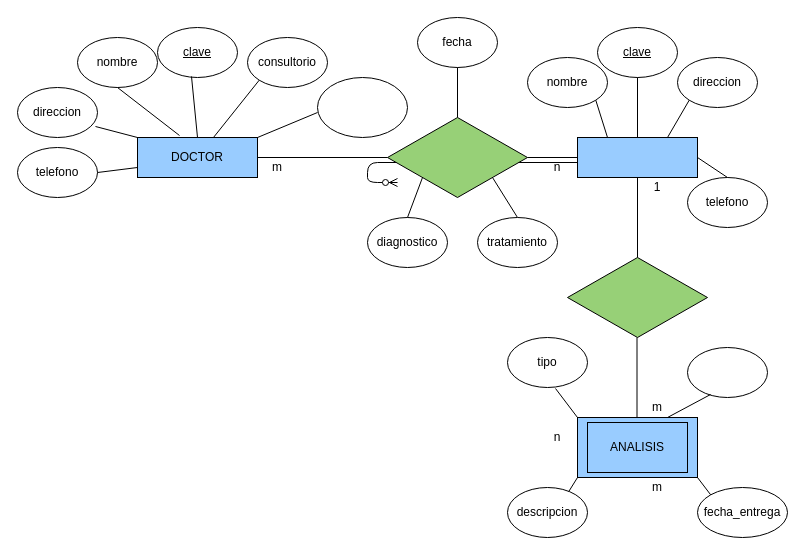
Image size: 805x555. Some labels were removed from this diagram. Each missing label, with the centre of its shape:
"ATIENDE" goes at pixel 457 157.
"especialidad" goes at pixel 362 107.
"fecha_aplic" goes at pixel 727 372.
"PACIENTE" goes at pixel 637 157.
"REALIZA" goes at pixel 637 297.
